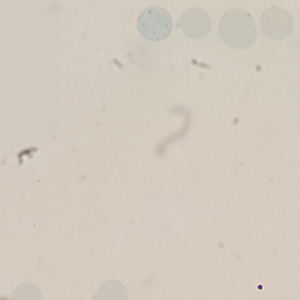erythrocyte: (257, 5, 296, 42), (178, 5, 214, 40)
punctate reticulocyte: (216, 7, 259, 51), (135, 4, 175, 43)
